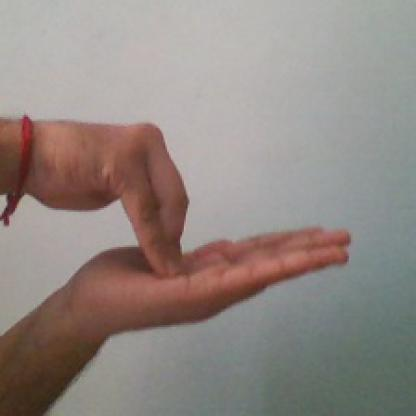Z: (30, 109, 366, 318)
